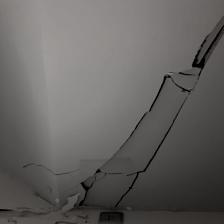Medium: (38, 33, 217, 205)
